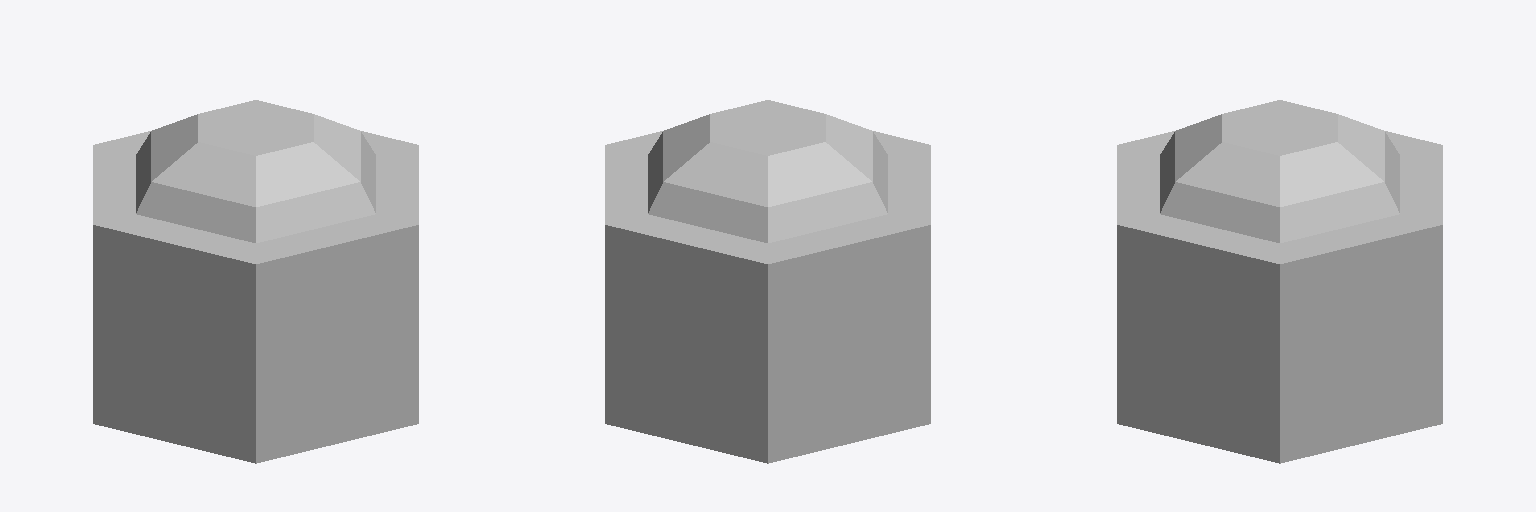
Rendered from maki-roe.obj.
3 views of the same model, side by side, from view 1: azimuth 30°, elevation 25°; view 2: azimuth 150°, elevation 25°; view 3: azimuth 270°, elevation 25° (orthographic).
Visible parts, largest first — view 1: maki-roe; view 2: maki-roe; view 3: maki-roe.
Part boxes in pixels (x1,y1,x2,y2): maki-roe: (93,100,418,463); maki-roe: (605,100,930,463); maki-roe: (1117,100,1442,463).
Bounding box in the file's own units: 0.12 × 0.09 × 0.1039.